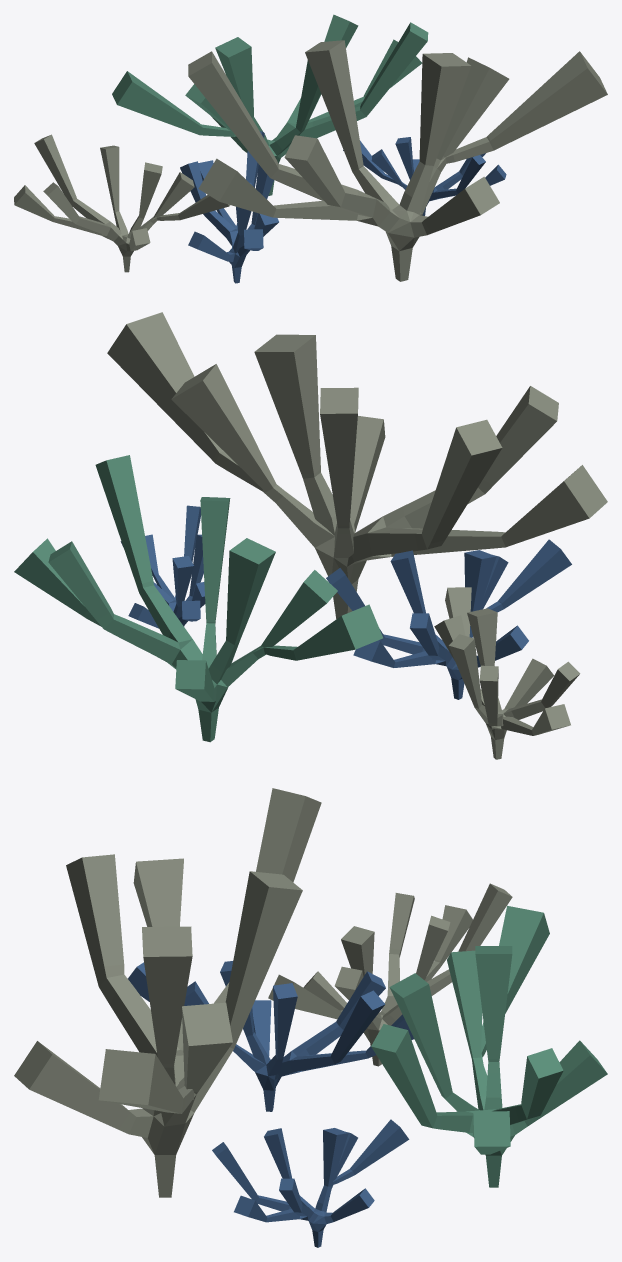
File: Coral2MIX.glb
The picture shows the model from 3 angles, top to bottom: view 1: azimuth 30°, elevation 25°; view 2: azimuth 150°, elevation 25°; view 3: azimuth 270°, elevation 25°; orthographic projection. The views are drawn at different scales.
Parts seen in each view (by area): view 1: Plane.003, Plane, Plane.002, Plane.001, Plane.004; view 2: Plane.003, Plane, Plane.001, Plane.002, Plane.004; view 3: Plane.003, Plane, Plane.002, Plane.001, Plane.004.
Boxes of the visible parts, x1,y1,x2,y2 form: Plane.003: [188, 40, 607, 281]; Plane: [112, 14, 428, 195]; Plane.002: [14, 134, 230, 272]; Plane.001: [180, 131, 278, 283]; Plane.004: [343, 137, 506, 215]; Plane.003: [107, 312, 607, 618]; Plane: [14, 455, 382, 742]; Plane.001: [326, 539, 571, 699]; Plane.002: [434, 587, 580, 759]; Plane.004: [120, 505, 205, 628]; Plane.003: [14, 788, 321, 1197]; Plane: [371, 905, 607, 1187]; Plane.002: [268, 883, 512, 1066]; Plane.001: [128, 961, 413, 1111]; Plane.004: [212, 1119, 409, 1247].
Size of the model in its own units: 0.3639 by 0.1651 by 0.2889.
